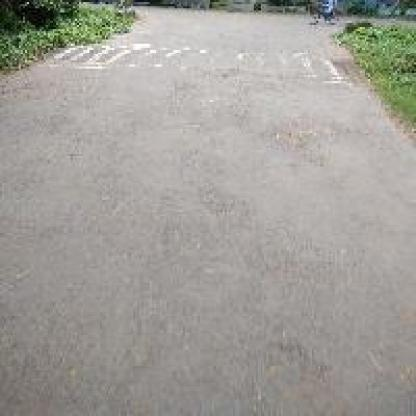Speed Bump: (38, 40, 348, 86)
